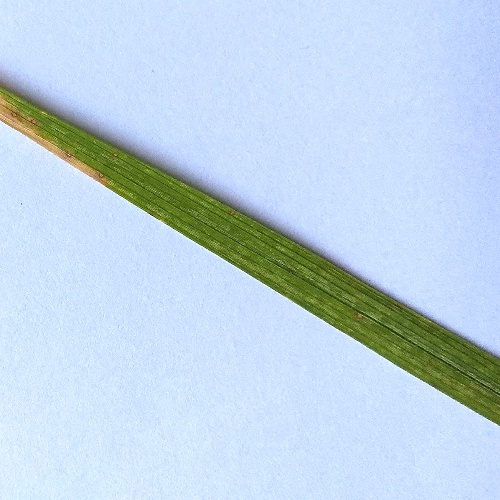Busuk Leher: (1, 100, 36, 133), (38, 134, 70, 165), (78, 157, 105, 186)
